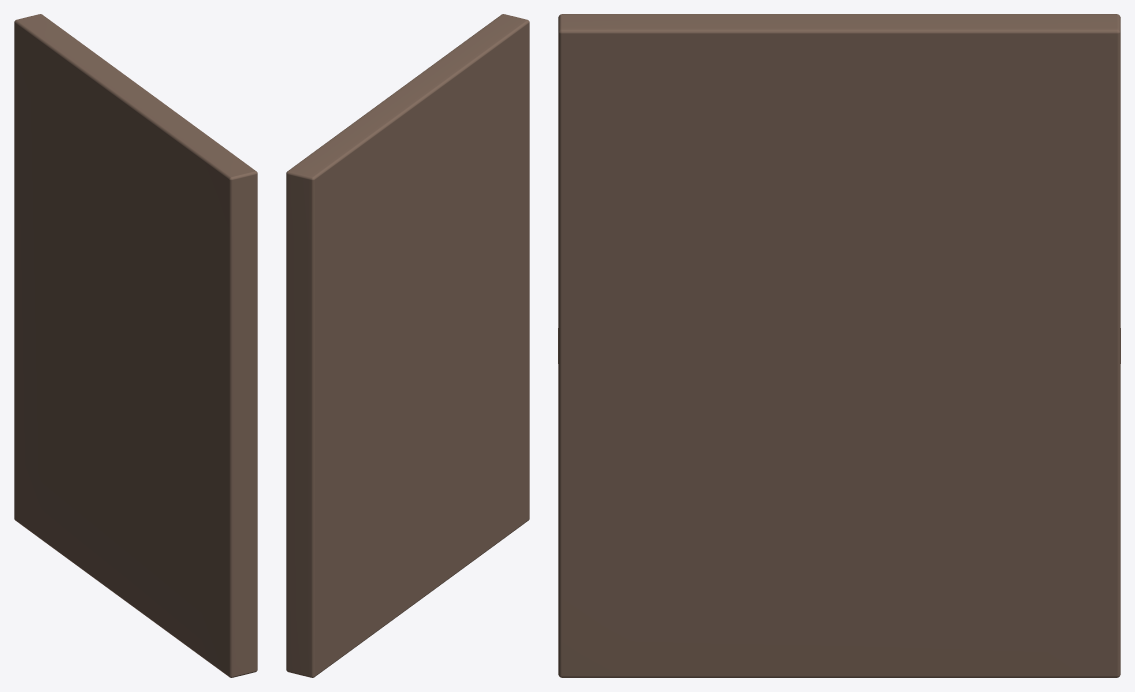
Rendered from Canvas_Medium.fbx.
3 views of the same model, side by side, from view 1: azimuth 30°, elevation 25°; view 2: azimuth 150°, elevation 25°; view 3: azimuth 270°, elevation 25° (orthographic). The views are drawn at different scales.
Parts seen in each view (by area): view 1: Medium_Canvas_High; view 2: Medium_Canvas_High; view 3: Medium_Canvas_High.
Part boxes in pixels (x1,y1,x2,y2): Medium_Canvas_High: (14, 14, 257, 677); Medium_Canvas_High: (286, 14, 529, 677); Medium_Canvas_High: (558, 14, 1120, 677).
Size of the model in its own units: 0.2141 by 3.56 by 2.8.
